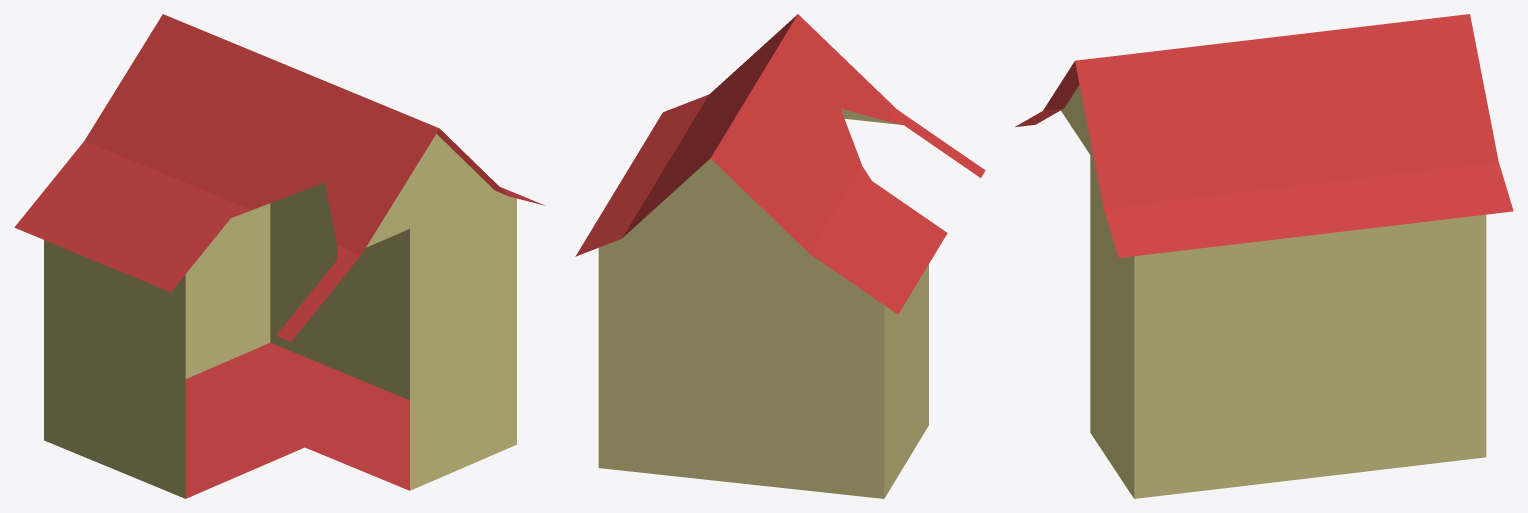
3 views of the same model, side by side, from view 1: azimuth 30°, elevation 25°; view 2: azimuth 150°, elevation 25°; view 3: azimuth 270°, elevation 25° (orthographic). The views are drawn at different scales.
Size of the model in its own units: 16.24 by 16.77 by 14.22.
